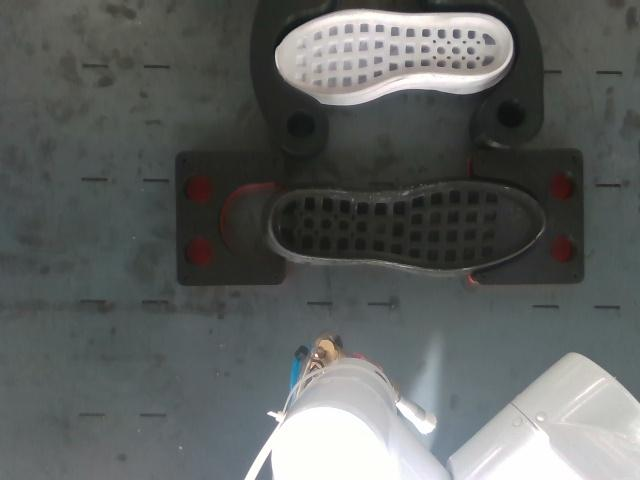shoes: (271, 183, 544, 269), (276, 11, 511, 95)
